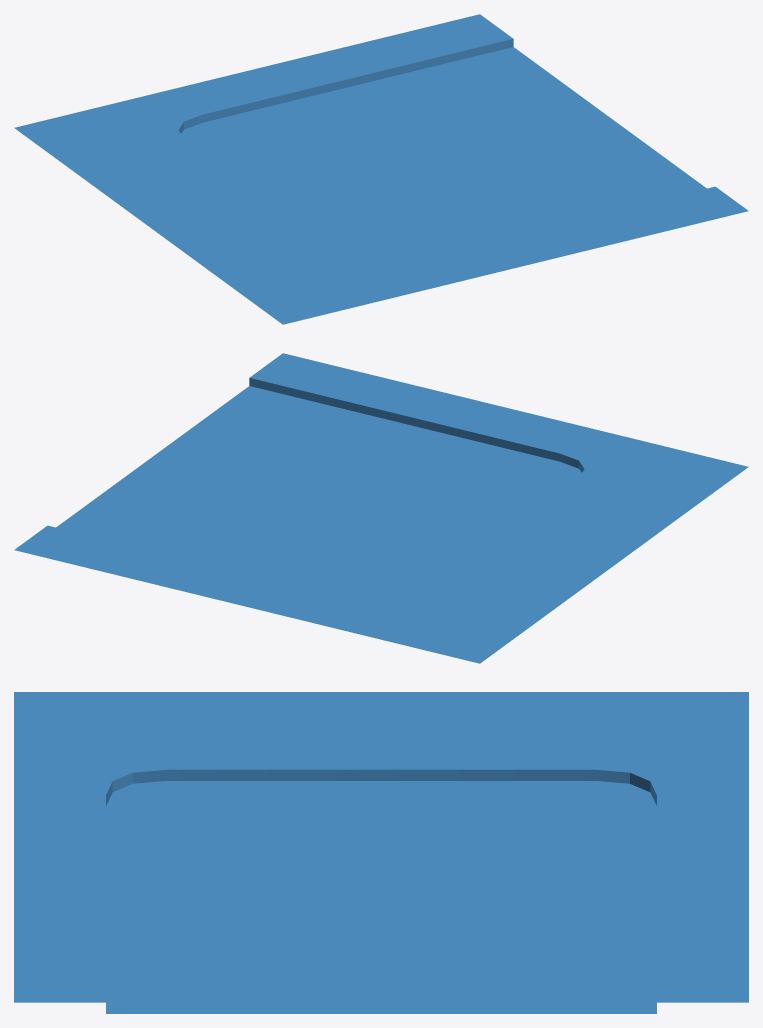
File: Road_End.fbx
3 renders of one model, top to bottom at view 1: azimuth 30°, elevation 25°; view 2: azimuth 150°, elevation 25°; view 3: azimuth 270°, elevation 25°, orthographic. The views are drawn at different scales.
Visible parts, largest first — view 1: Road_End; view 2: Road_End; view 3: Road_End.
Part boxes in pixels (left/top/right/bottom): Road_End: left=14, top=14, right=748, bottom=324; Road_End: left=14, top=353, right=748, bottom=663; Road_End: left=14, top=692, right=748, bottom=1013.
Bounding box in the file's own units: 900 × 15 × 900.
